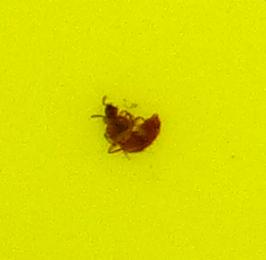Hymenoptera: (100, 100, 166, 160)
